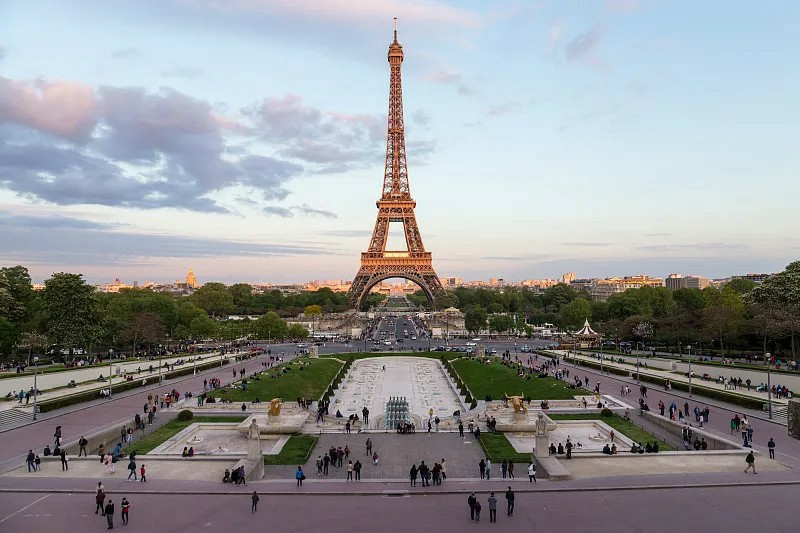Eiffel: (343, 17, 446, 312)
